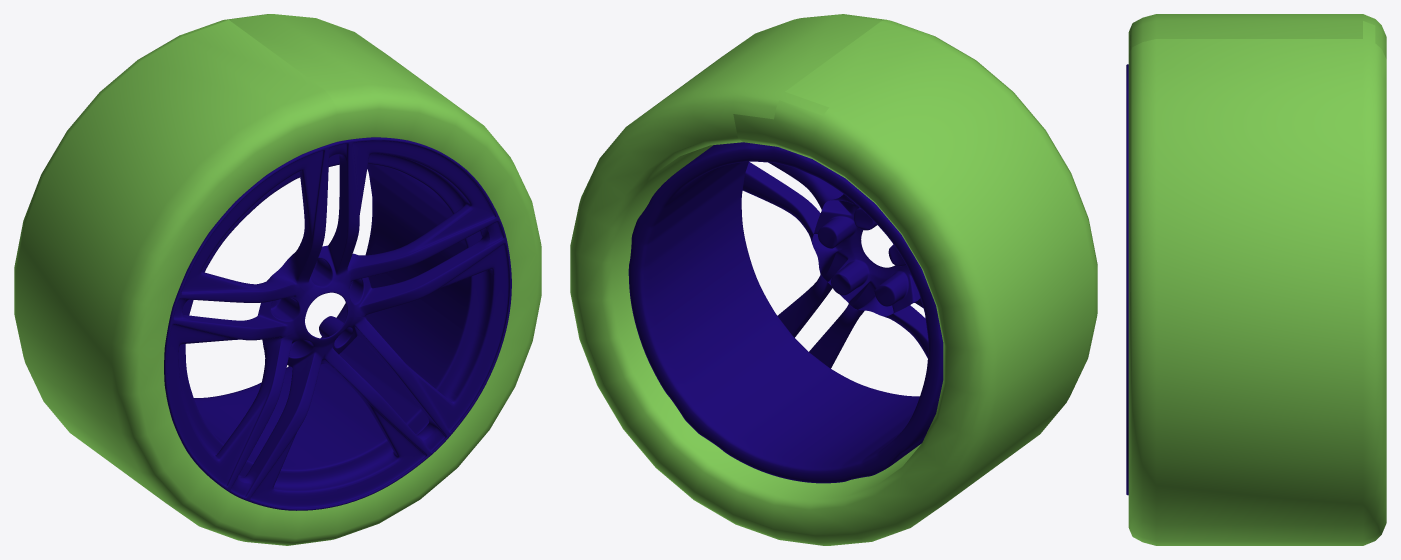
Rendered from llanta3.obj.
3 renders of one model, left to right at view 1: azimuth 30°, elevation 25°; view 2: azimuth 150°, elevation 25°; view 3: azimuth 270°, elevation 25°, orthographic. The views are drawn at different scales.
Parts seen in each view (by area): view 1: llanta004, llanta3; view 2: llanta004, llanta3; view 3: llanta004, llanta3.
Part boxes in pixels (box(x1,y1,x2,y2)): llanta004: box(14, 14, 541, 545); llanta3: box(164, 137, 511, 510); llanta004: box(570, 14, 1097, 545); llanta3: box(628, 142, 943, 483); llanta004: box(1128, 14, 1386, 545); llanta3: box(1126, 64, 1128, 495).
Size of the model in its own units: 5.58 by 5.61 by 2.75.
